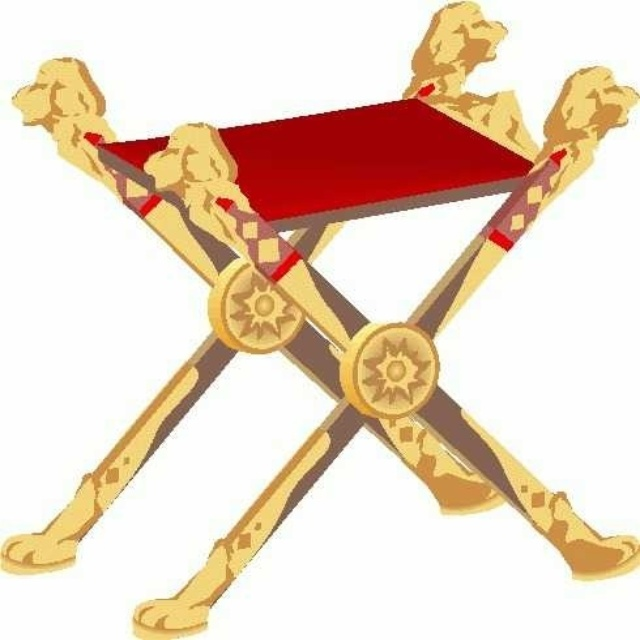obstacle: (1, 0, 451, 539), (183, 429, 637, 639), (1, 353, 334, 639), (436, 106, 637, 534), (466, 0, 637, 145), (313, 195, 505, 319)
